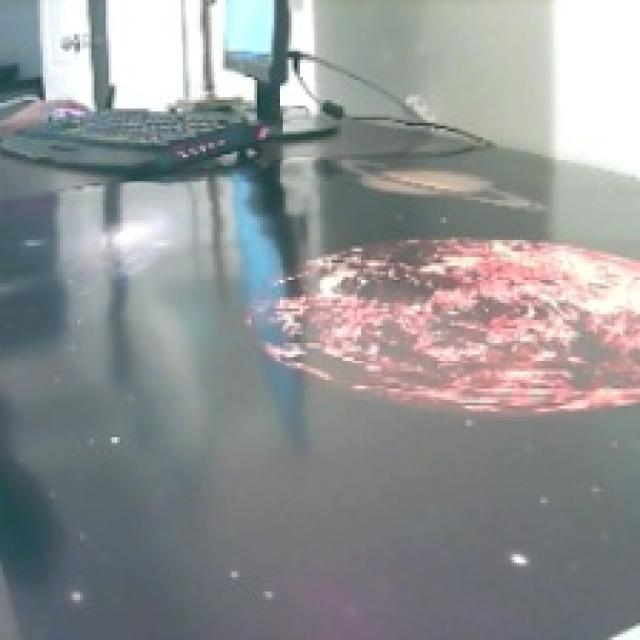Galaxy: (79, 199, 182, 284)
Saturn: (330, 152, 549, 213)
Sun: (245, 231, 640, 422)
